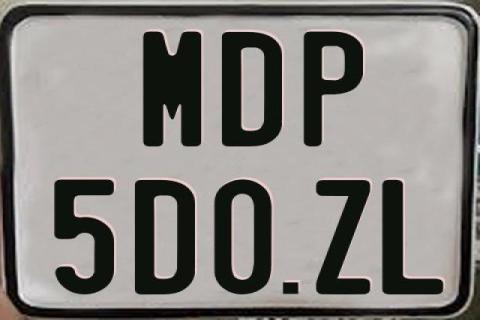0: (52, 180, 117, 298), (212, 178, 276, 296)
D: (219, 30, 282, 146), (135, 179, 198, 295)
L: (379, 179, 442, 295)
M: (143, 30, 201, 146)
P: (302, 29, 361, 145)
Z: (314, 178, 372, 296)
